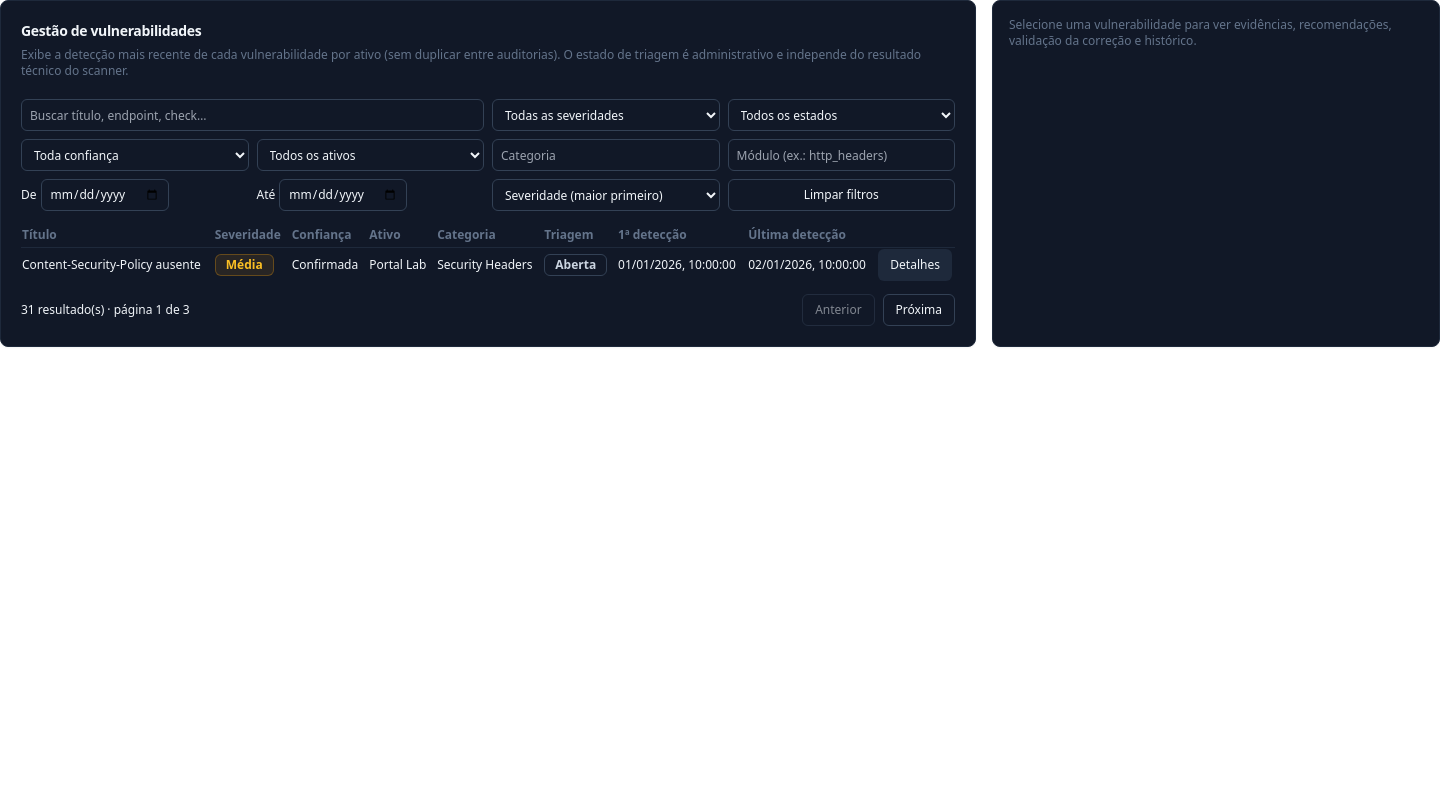
Scenario: Fase 4 — painéis (TM-016) › vulnerabilidades: lista, filtra no servidor, pagina e mostra evidência escapada
Expected: the text "Content-Security-Policy ausente" is shown, [21,248,214,282]
Expected: the text with test id "findings-total" reads "31 resultado(s) · página 1 de 3", [21,302,190,318]
Select "Alta" in the dropdown named "Filtrar por severidade" at (606, 115), box [492,99,720,131]
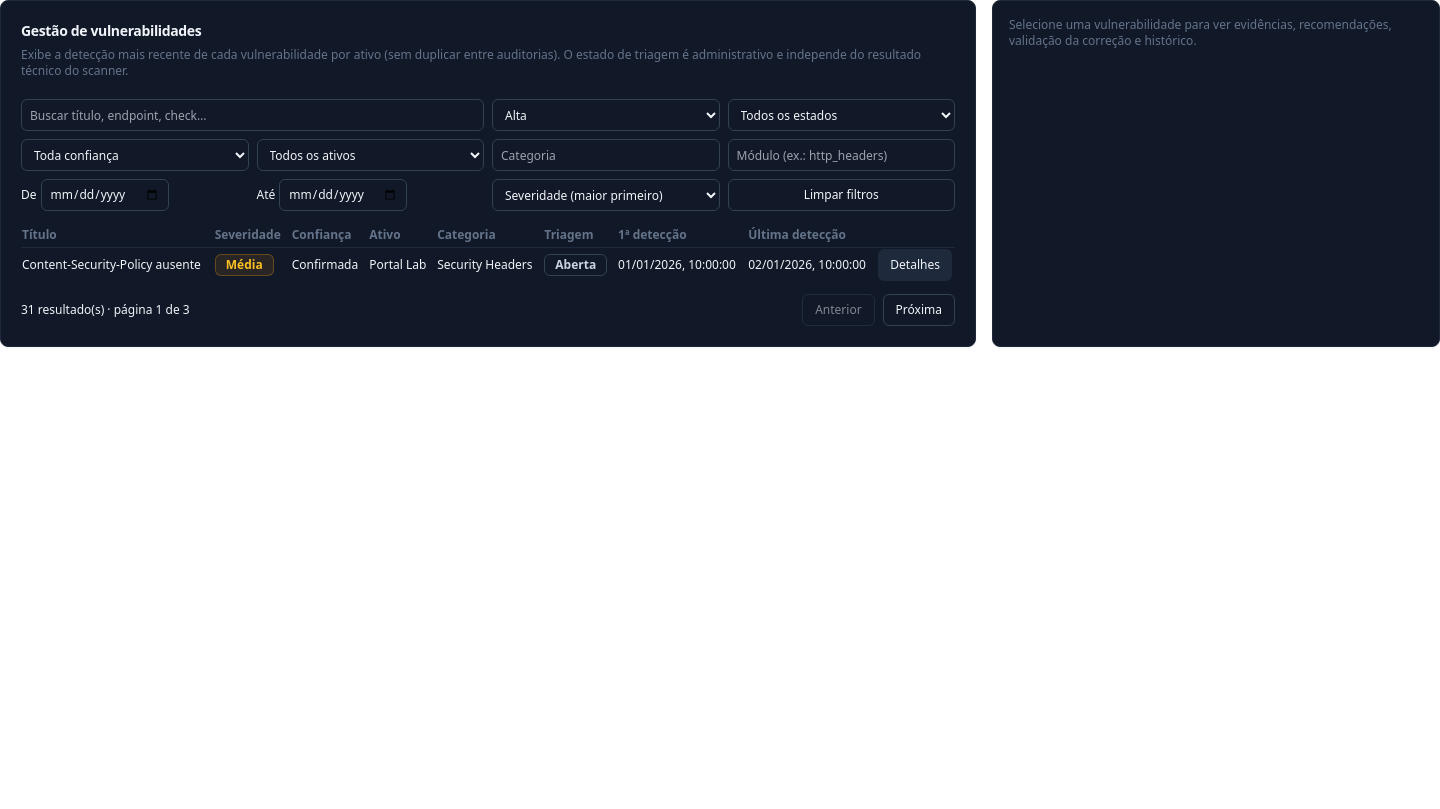
Click the button "Próxima" at (919, 310), box [883,294,955,326]
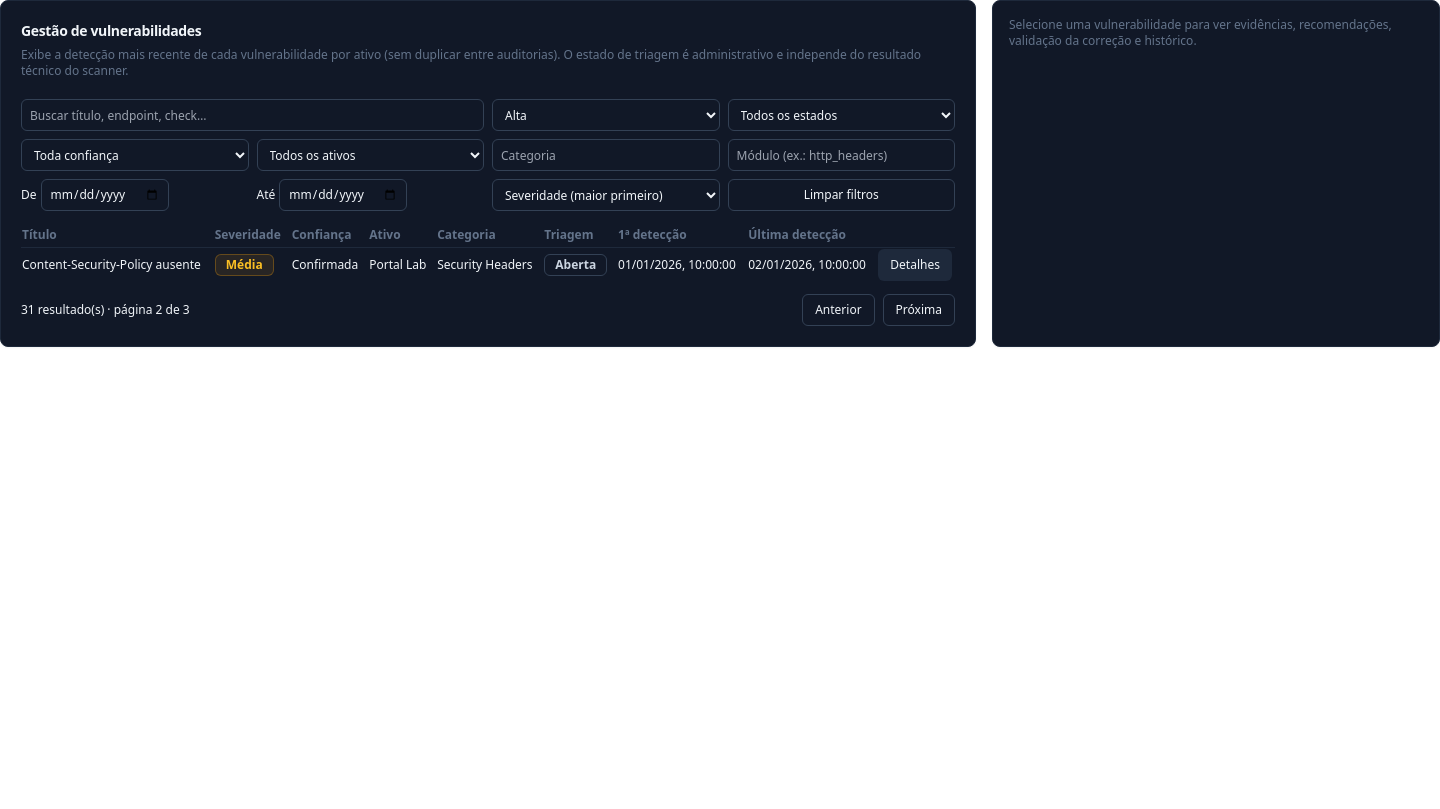
Click the button with aria-label "Ver detalhes de" at (915, 265), box [878,249,952,281]
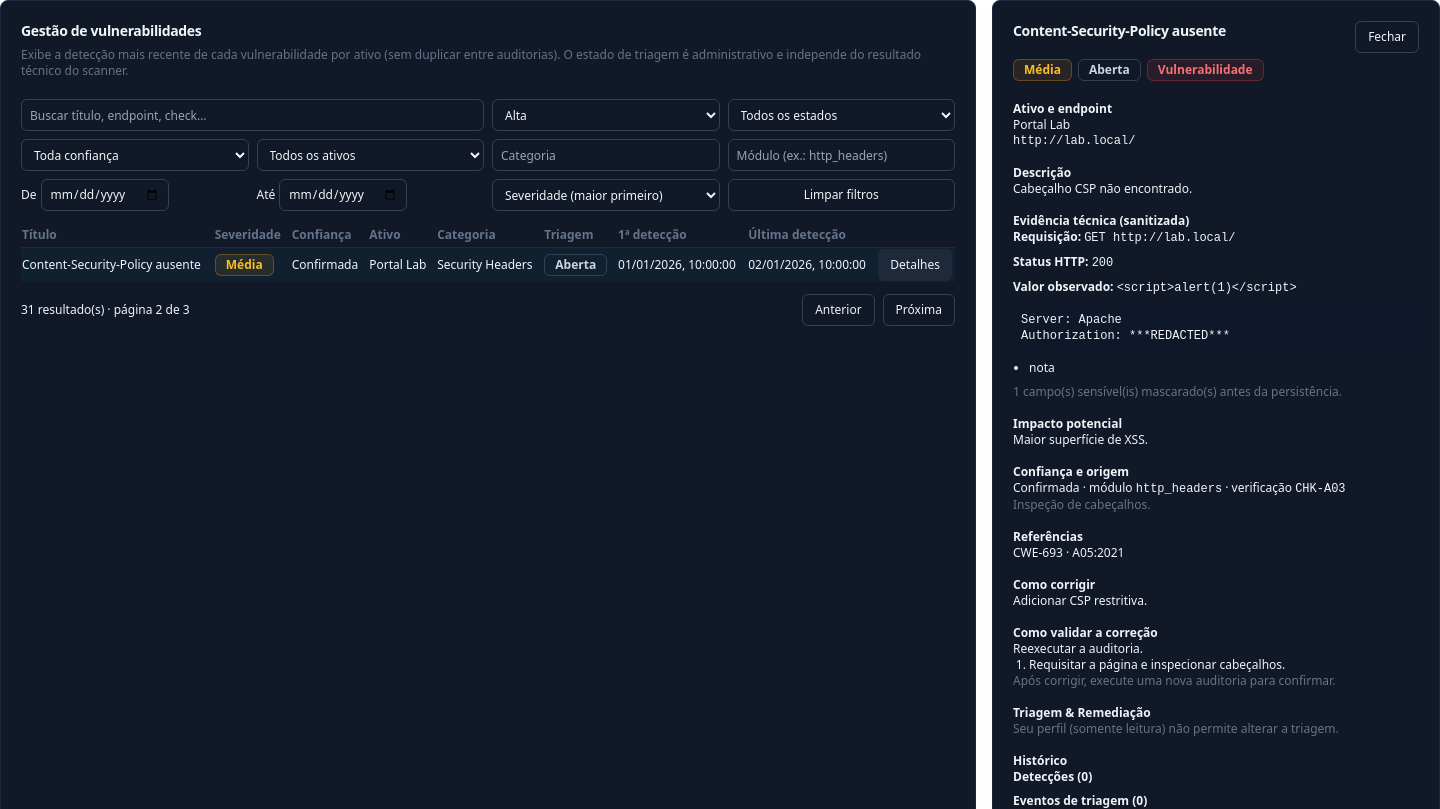
Expected: the text "<script>alert(1)</script>" is shown, [1117,281,1297,295]
Expected: the text "1 campo(s) sensível(is) mascarado(s) antes da persistência." is shown, [1013,383,1342,400]
Expected: the text "Seu perfil (somente leitura) não permite alterar a triagem." is shown, [1013,720,1339,737]
